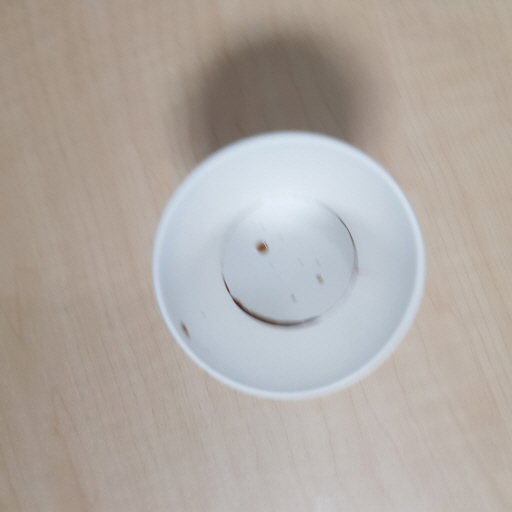Paper_1: (148, 126, 428, 402)
